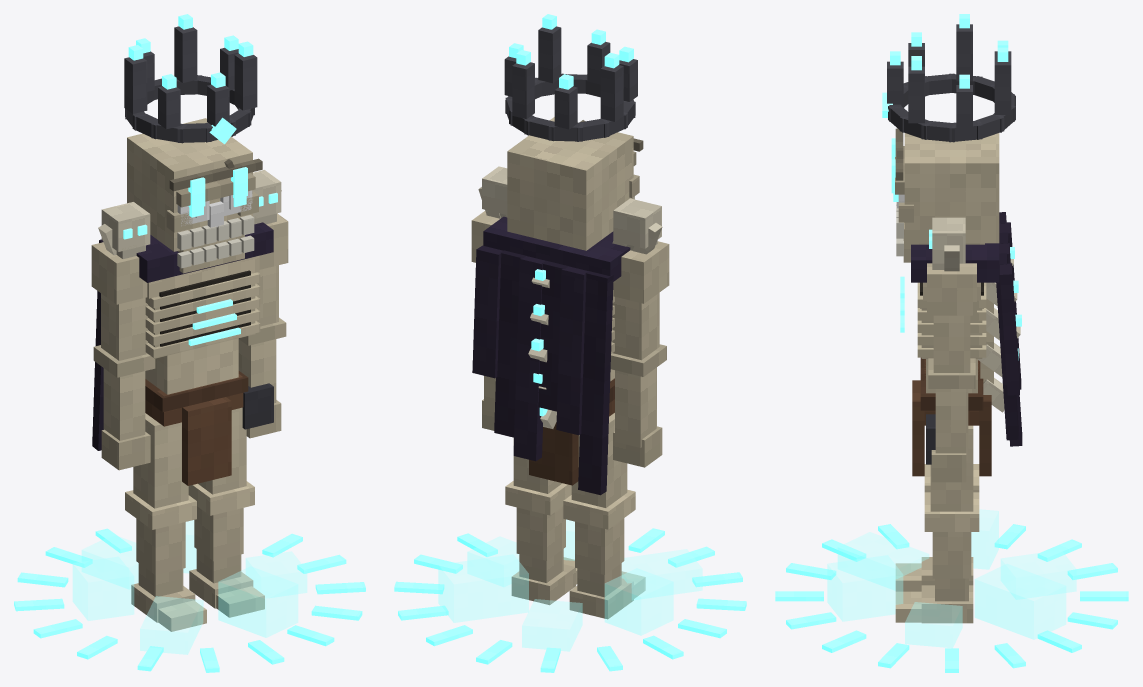
The model's file is seigneur_squelette.glb.
The picture shows the model from 3 angles, left to right: view 1: azimuth 30°, elevation 25°; view 2: azimuth 150°, elevation 25°; view 3: azimuth 270°, elevation 25°; orthographic projection.
Visible parts, largest first — view 1: Head, Torso, Root, ArmR, LegR, LegL, ArmL; view 2: Torso, Head, Root, ArmR, LegR, LegL, ArmL; view 3: Root, Head, Torso, ArmL, LegL, LegR.
Boxes of the visible parts, x1=… form: Head: x1=124, y1=14, x2=262, y2=273; Torso: x1=92, y1=222, x2=273, y2=485; Root: x1=14, y1=520, x2=365, y2=672; ArmR: x1=91, y1=202, x2=155, y2=470; LegR: x1=125, y1=413, x2=206, y2=631; LegL: x1=188, y1=407, x2=264, y2=617; ArmL: x1=238, y1=170, x2=288, y2=438; Torso: x1=472, y1=216, x2=630, y2=495; Head: x1=504, y1=14, x2=643, y2=250; Root: x1=394, y1=519, x2=746, y2=672; ArmR: x1=610, y1=198, x2=669, y2=467; LegR: x1=563, y1=413, x2=645, y2=619; LegL: x1=505, y1=438, x2=577, y2=604; ArmL: x1=471, y1=166, x2=507, y2=430; Root: x1=775, y1=509, x2=1128, y2=672; Head: x1=882, y1=14, x2=1015, y2=262; Torso: x1=900, y1=212, x2=1022, y2=476; ArmL: x1=927, y1=217, x2=976, y2=482; LegL: x1=895, y1=425, x2=979, y2=623; LegR: x1=895, y1=464, x2=979, y2=591.
Size of the model in its own units: 1.16 by 2.03 by 1.16.
32 materials, 32 textured.
